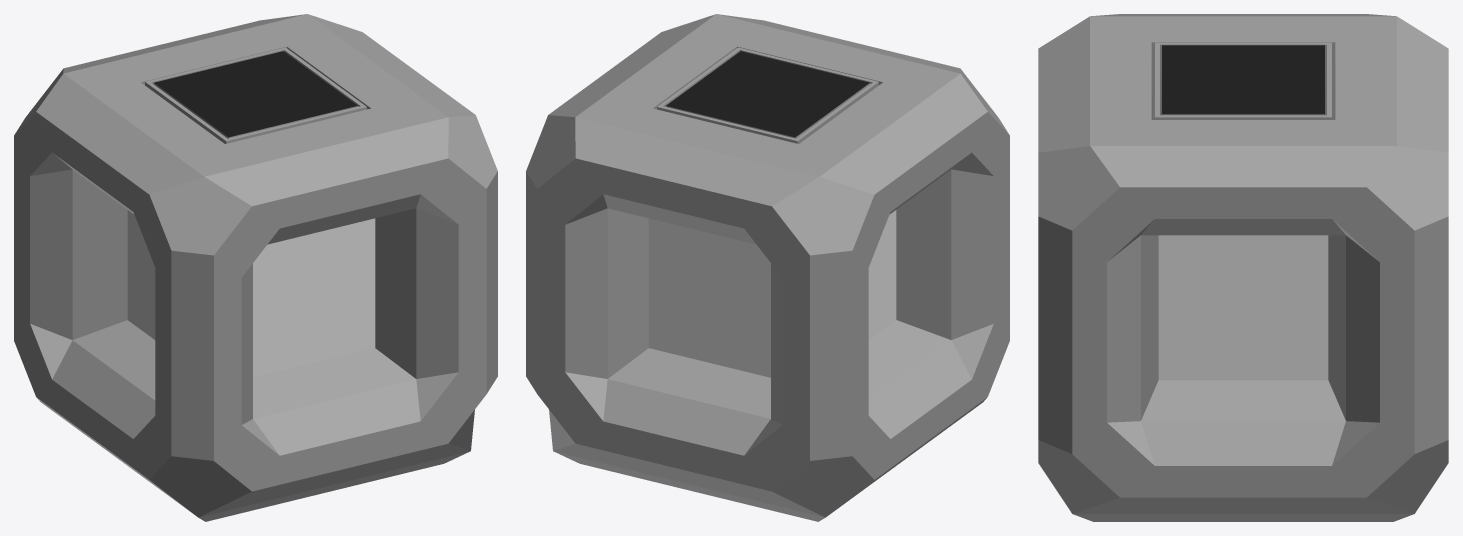
The model's file is Storage_Small.fbx.
3 renders of one model, left to right at view 1: azimuth 30°, elevation 25°; view 2: azimuth 150°, elevation 25°; view 3: azimuth 270°, elevation 25°, orthographic. The views are drawn at different scales.
Parts seen in each view (by area): view 1: StorageCube_LOD0; view 2: StorageCube_LOD0; view 3: StorageCube_LOD0.
Boxes of the visible parts, bbox=[...] form: StorageCube_LOD0: bbox=[14, 14, 497, 521]; StorageCube_LOD0: bbox=[526, 14, 1009, 521]; StorageCube_LOD0: bbox=[1038, 14, 1448, 521].
Size of what is drawn, in the model's own units: 200 by 204 by 200.
